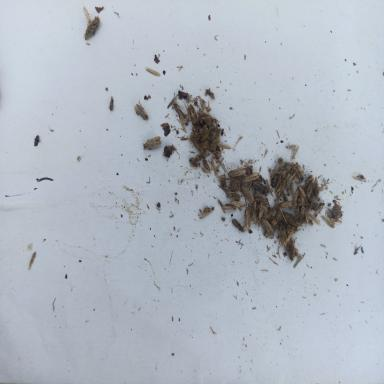pbw: (84, 16, 100, 40), (252, 202, 264, 231), (133, 101, 149, 120), (252, 180, 270, 196), (141, 136, 162, 149), (198, 105, 212, 123), (276, 175, 288, 196), (174, 103, 187, 121), (284, 212, 300, 226), (261, 218, 274, 234), (242, 185, 254, 202), (198, 205, 212, 219), (232, 218, 245, 233), (278, 222, 286, 246), (227, 166, 246, 176), (288, 238, 296, 261), (313, 201, 326, 215), (321, 215, 335, 228), (209, 127, 220, 143), (190, 131, 201, 147), (292, 185, 302, 202), (258, 202, 266, 223), (299, 204, 306, 228), (207, 144, 221, 156), (285, 225, 295, 241), (145, 67, 161, 77), (225, 191, 241, 201), (242, 173, 259, 182), (220, 203, 237, 212), (314, 176, 320, 200), (308, 214, 320, 226), (188, 102, 196, 120), (216, 141, 232, 150), (306, 180, 314, 198), (200, 136, 211, 149), (279, 200, 293, 210), (298, 185, 308, 198), (305, 193, 312, 211), (244, 206, 250, 227), (200, 126, 209, 140), (257, 194, 269, 204), (285, 172, 293, 187), (305, 206, 310, 229), (203, 158, 211, 172), (231, 198, 243, 207), (296, 162, 303, 176), (302, 206, 308, 222), (305, 176, 313, 186), (284, 163, 292, 172), (276, 168, 288, 174), (189, 157, 196, 164)
